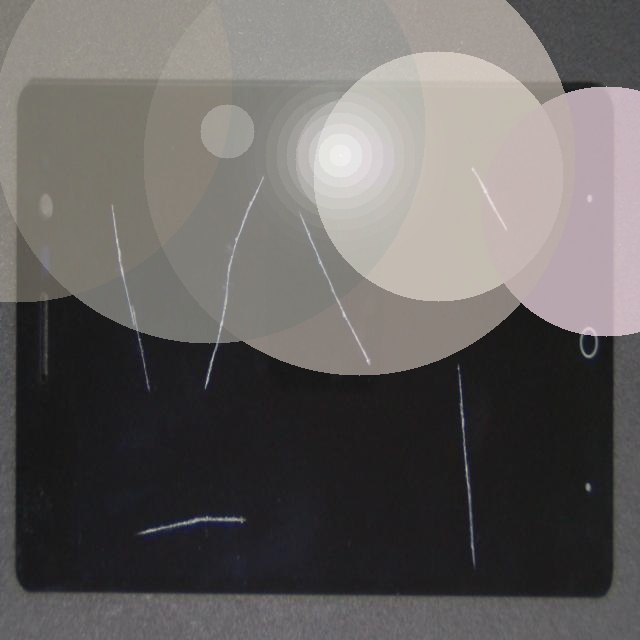scratch: (260, 410, 640, 640), (65, 239, 313, 567), (229, 287, 538, 467), (283, 97, 640, 243), (102, 305, 216, 493)
